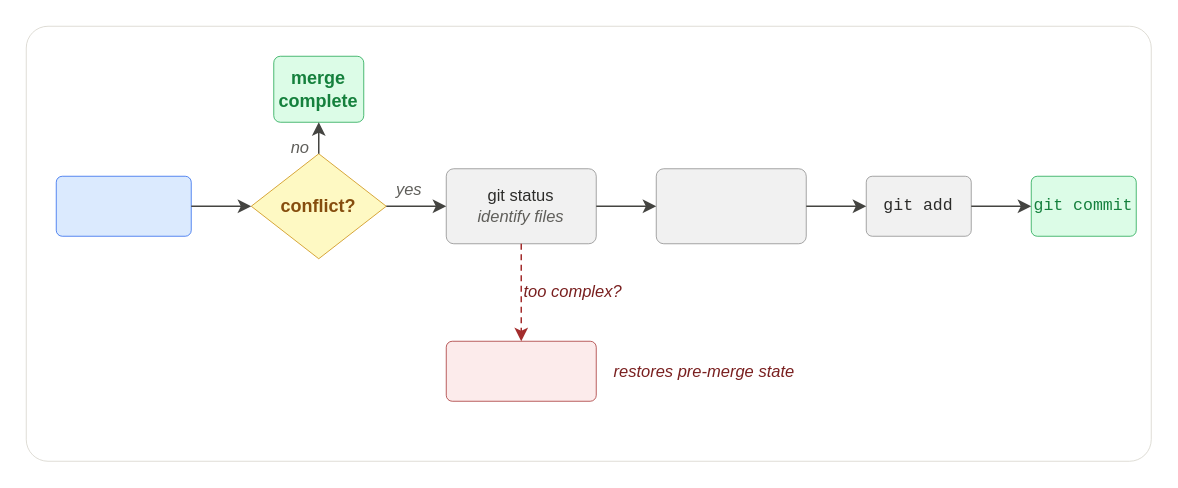
Image size: 1178x488. Some labels were removed from this diagram. The shapes that lost their labels are listed below. From the top down, each one's centre as x and y in pixels, then its label:
At (x=123, y=205): "git merge".
At (x=730, y=205): "edit files remove markers".
At (x=520, y=370): "git merge --abort".
